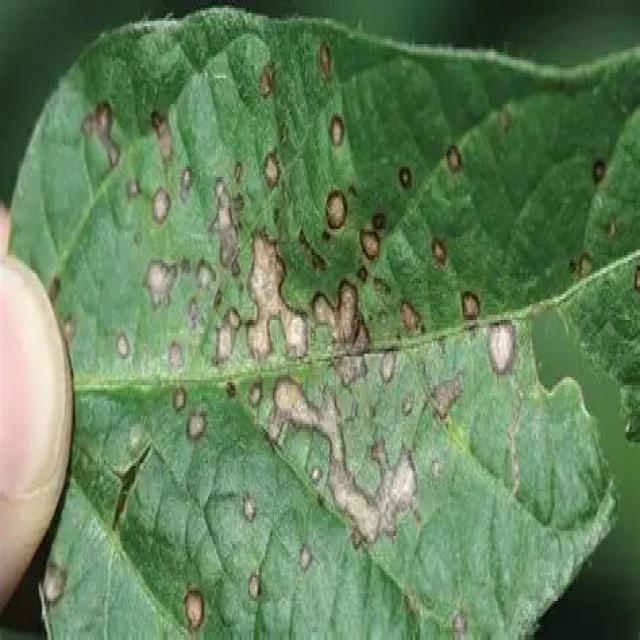leaf_spot: (8, 10, 639, 635)
